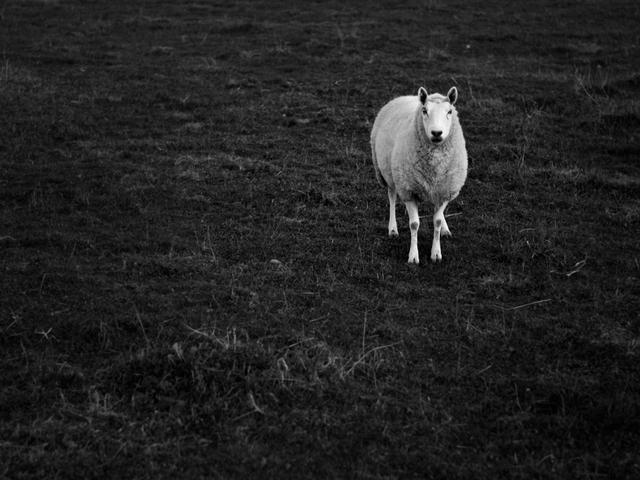sheep: (341, 67, 510, 277)
